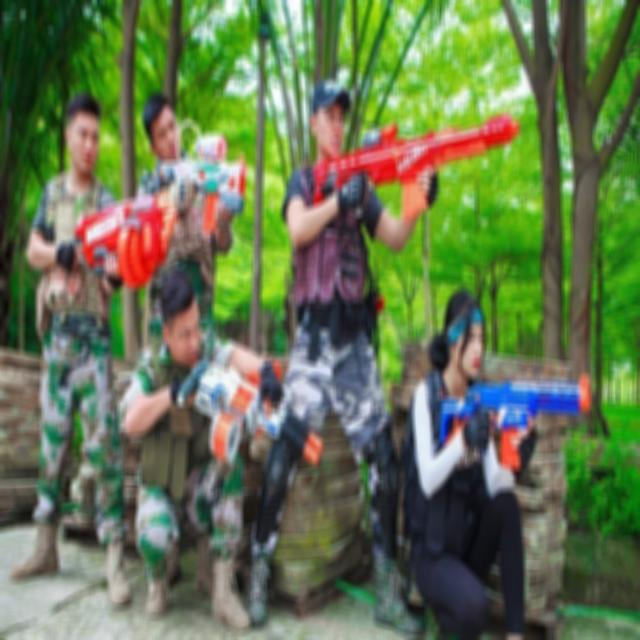Nerf gun: (308, 107, 525, 233), (174, 347, 326, 480), (430, 372, 599, 471), (43, 179, 179, 296), (155, 121, 247, 229)
